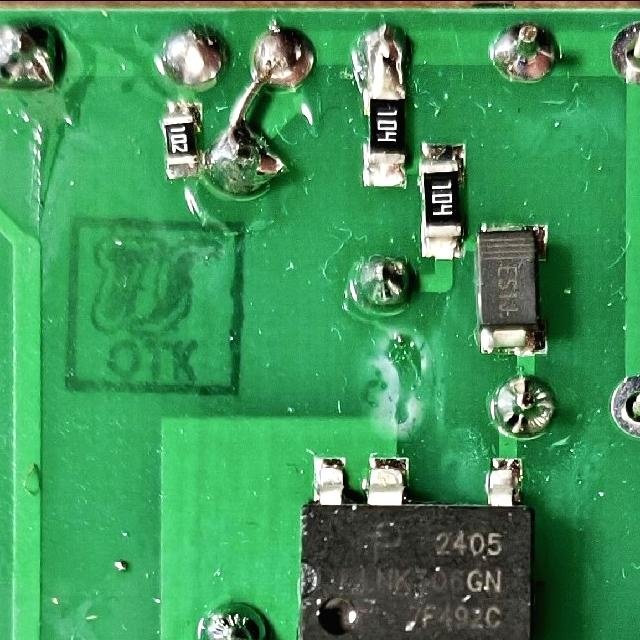chip-resistor: (359, 61, 409, 190), (415, 139, 466, 262), (160, 100, 202, 179)
diode: (470, 219, 550, 358)
ic: (293, 450, 539, 640)
